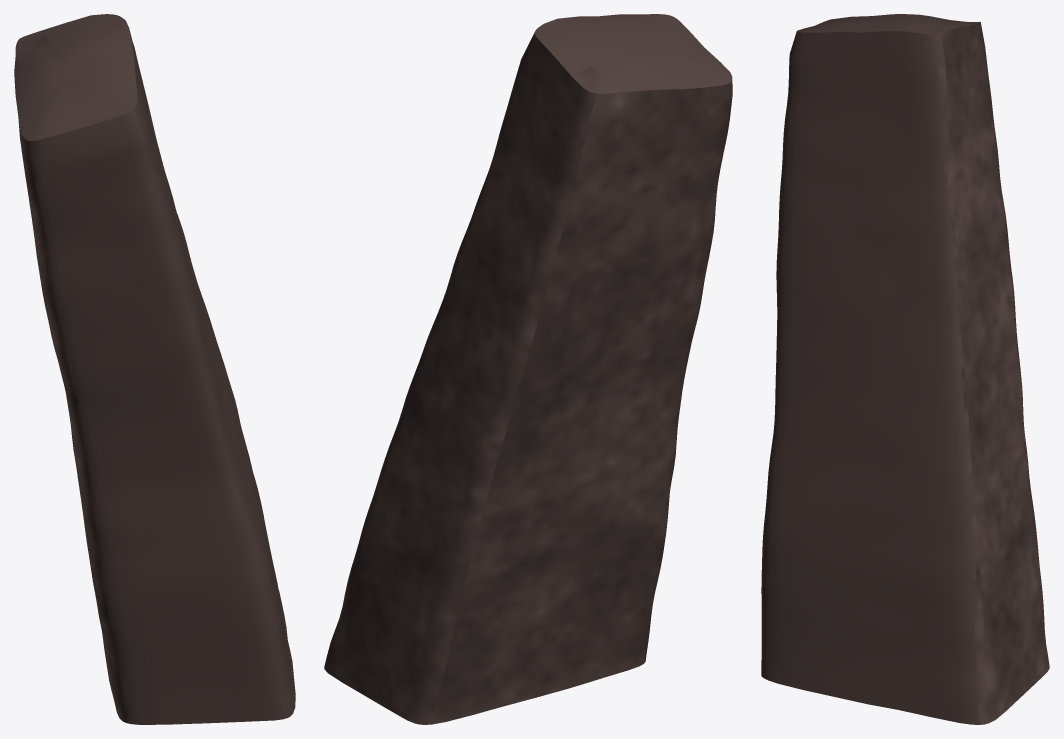
Rendered from TarHenge09.glb.
3 renders of one model, left to right at view 1: azimuth 30°, elevation 25°; view 2: azimuth 150°, elevation 25°; view 3: azimuth 270°, elevation 25°, orthographic. The views are drawn at different scales.
Visible parts, largest first — view 1: TarHenge09; view 2: TarHenge09; view 3: TarHenge09.
Part boxes in pixels (left/top/right/bottom): TarHenge09: left=14, top=14, right=295, bottom=724; TarHenge09: left=324, top=14, right=732, bottom=724; TarHenge09: left=761, top=14, right=1049, bottom=724.
Size of the model in its own units: 2.61 by 5.02 by 2.16.
Materials: 2 (1 with a texture image).
